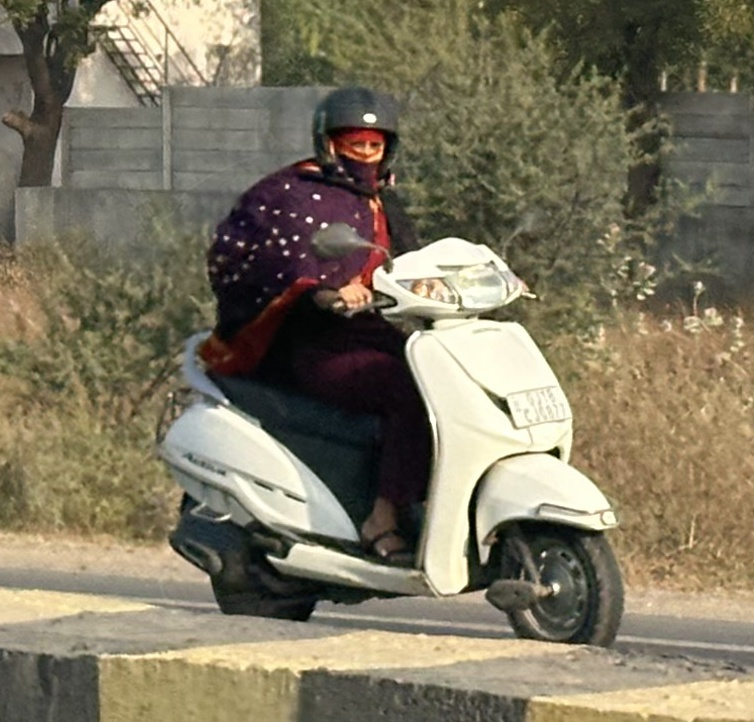BikeWithRider: (141, 75, 639, 655)
Helmet: (297, 78, 413, 196)
